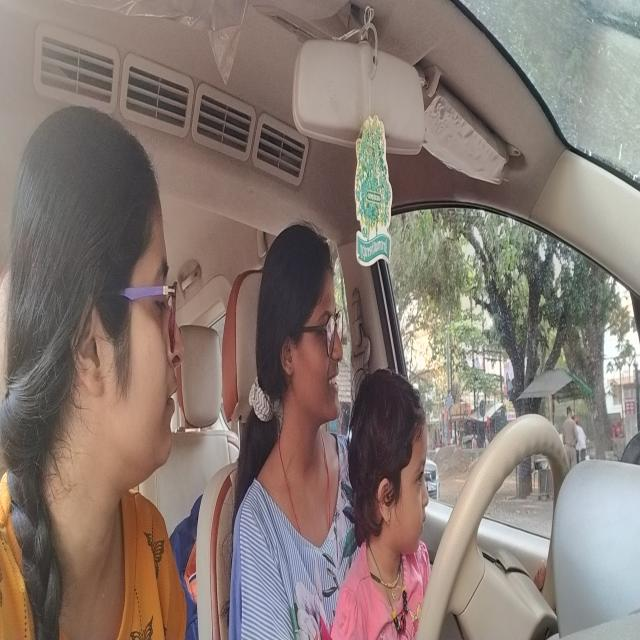child: (346, 360, 437, 549)
person: (16, 88, 191, 515), (258, 203, 347, 470)
